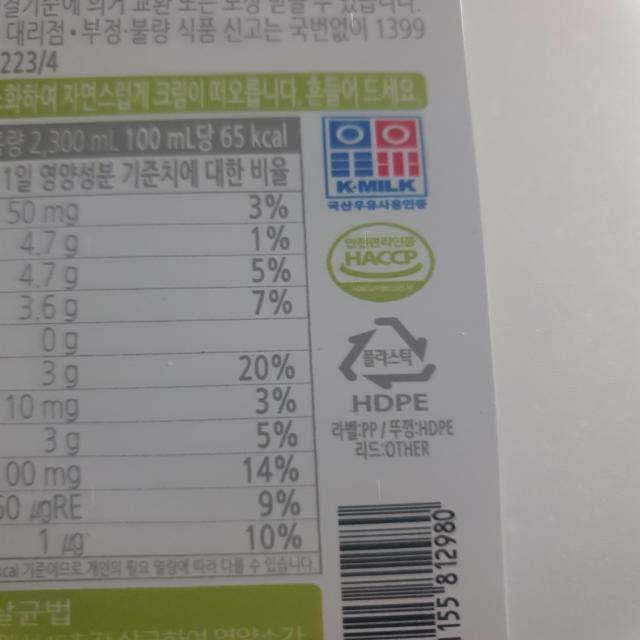Plastic: (334, 313, 441, 392)
